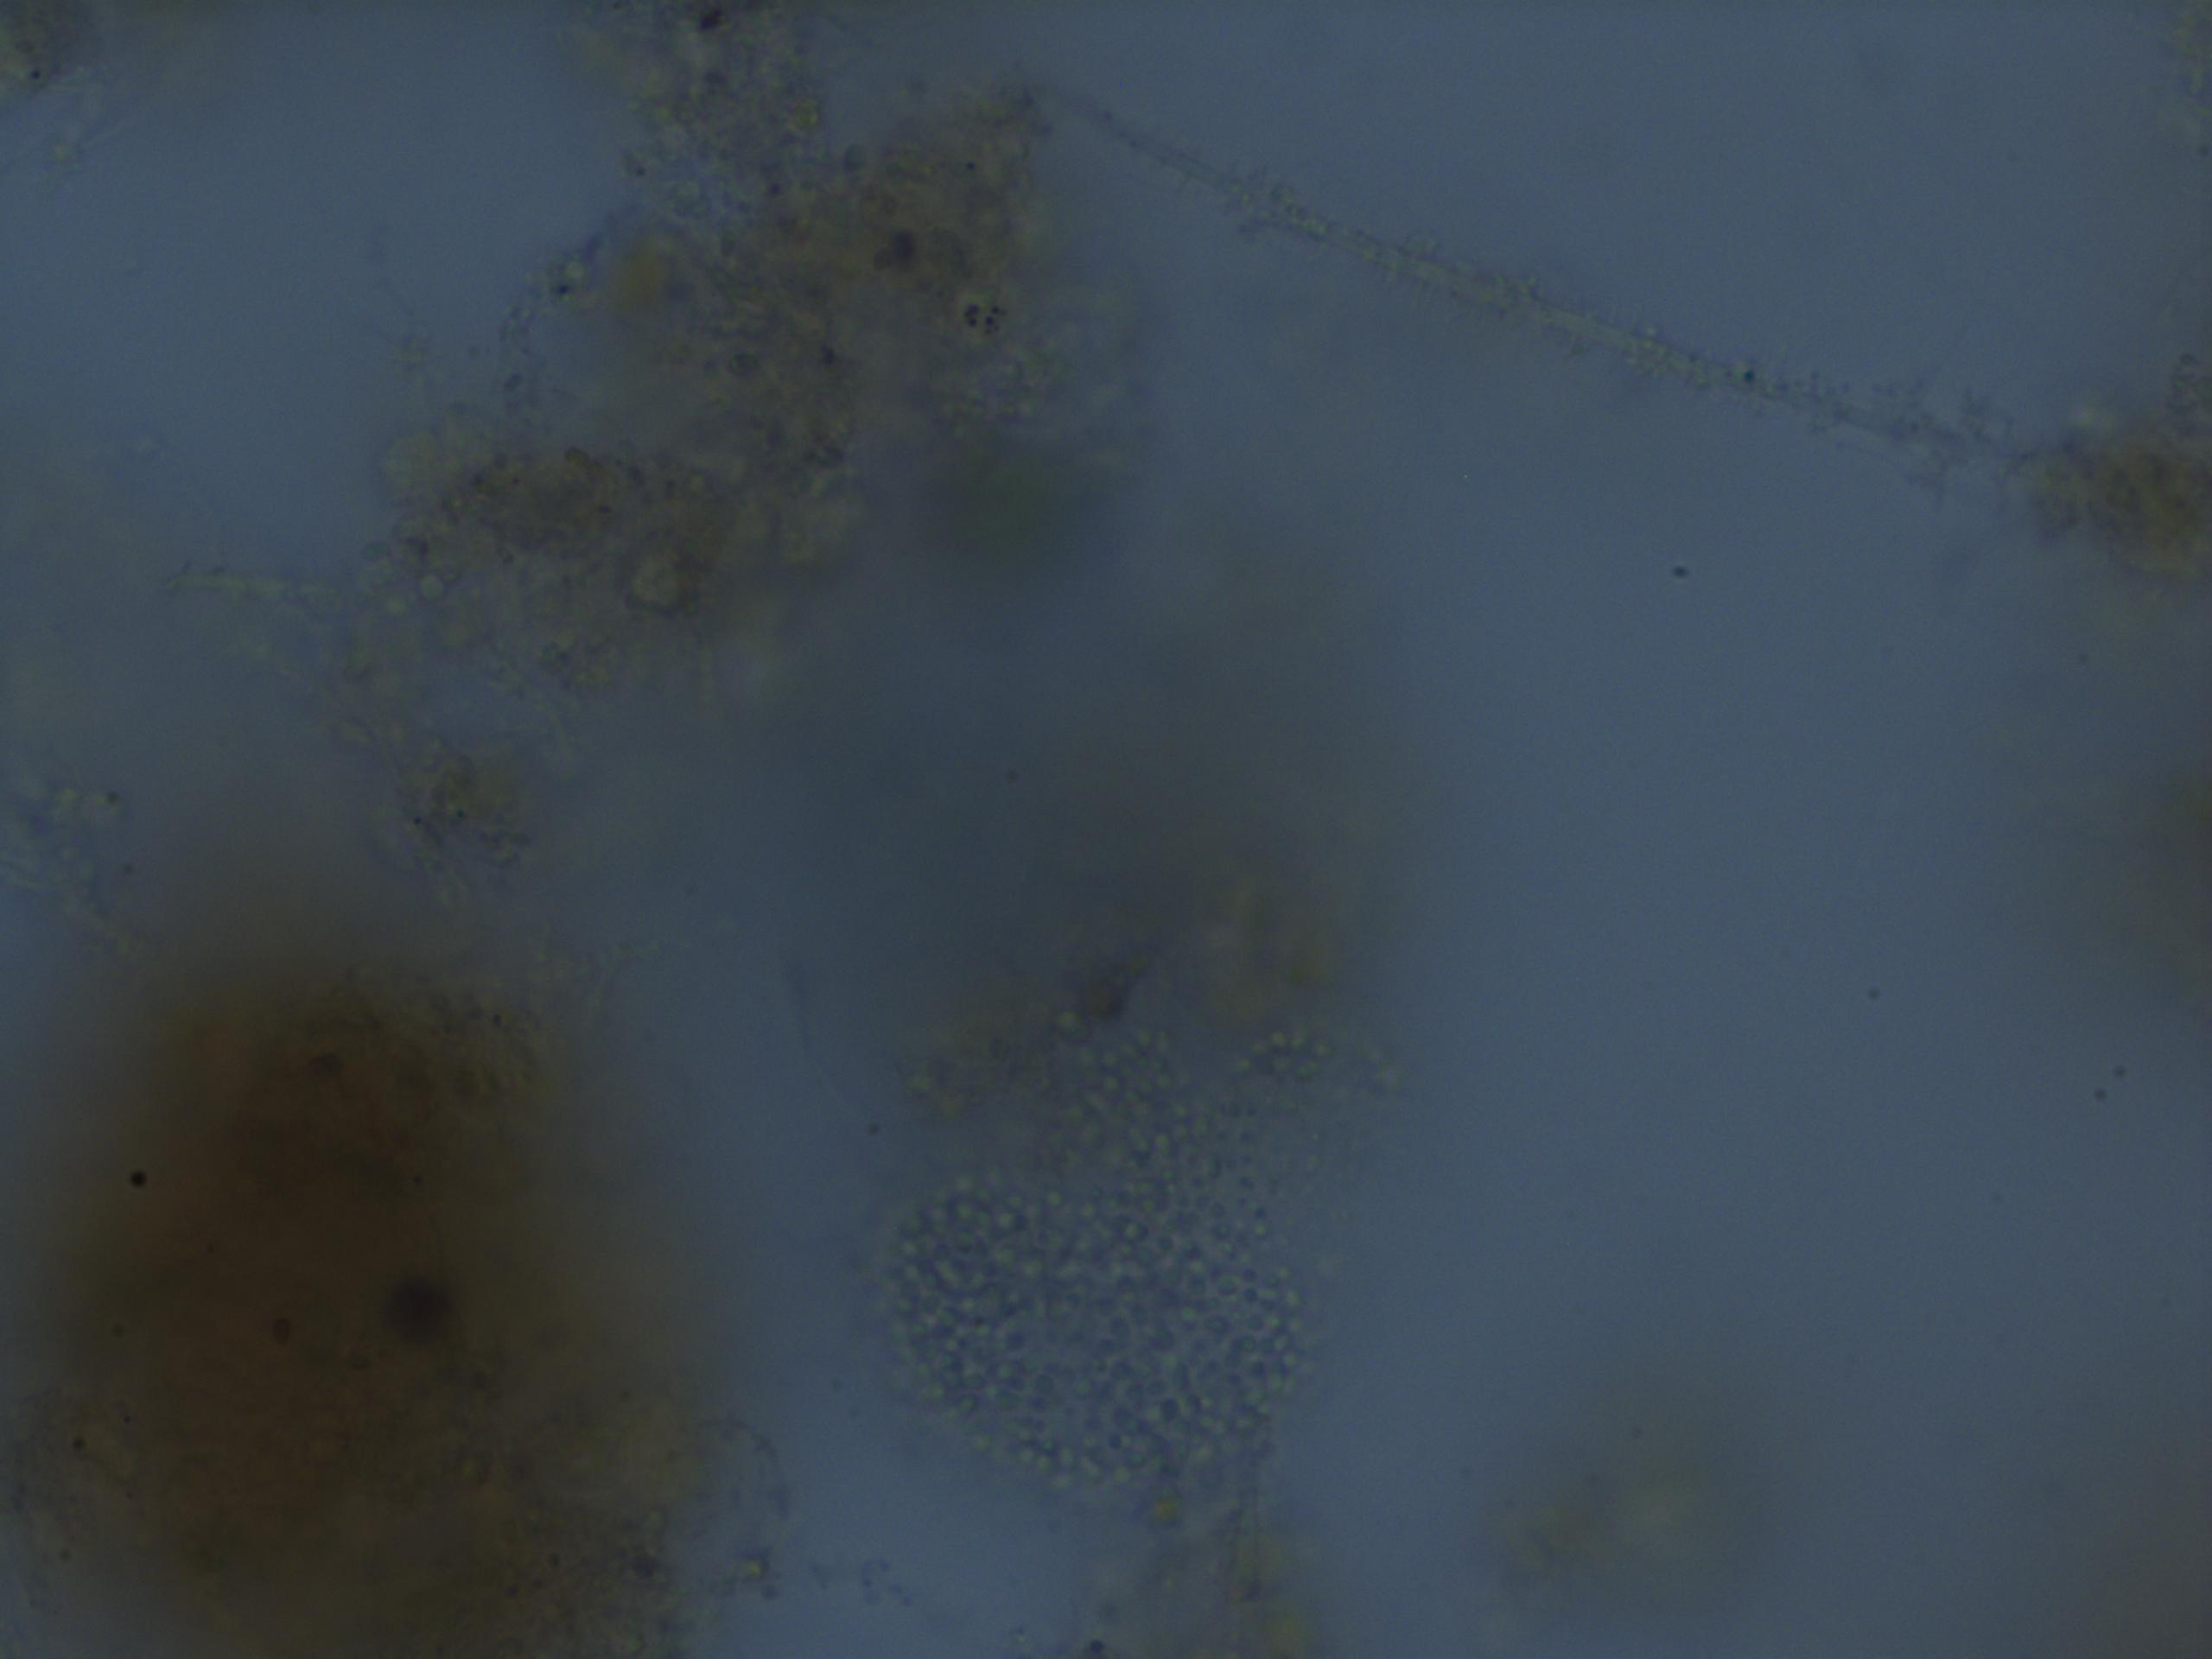filament: (1080, 105, 2212, 568)
